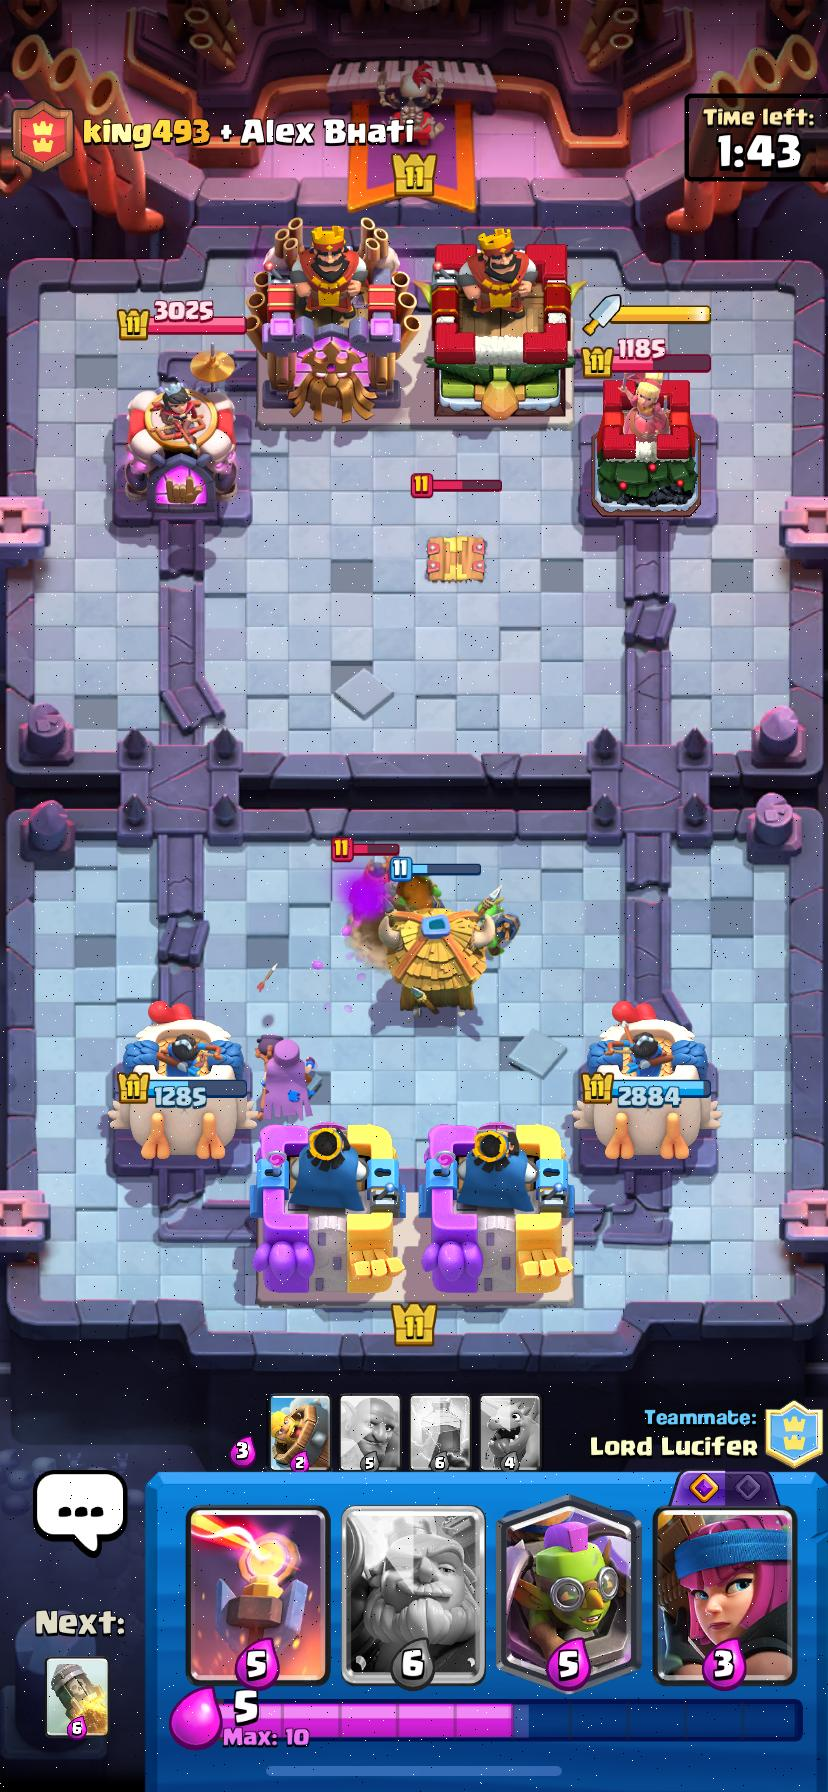EKingTower: (247, 218, 417, 421), (425, 229, 574, 418)
ETesla: (425, 535, 483, 583)
EnemyDagTower: (592, 373, 700, 515)
EnemyPrincessTower: (126, 384, 234, 504)
OGoblinHut: (388, 910, 485, 1011)
OMotherWitch: (262, 1039, 312, 1125)
OSpearGoblin: (473, 898, 519, 957)
OwnKingTower: (422, 1121, 574, 1298), (253, 1123, 403, 1302)
OwnPrincessTower: (578, 1003, 719, 1160), (114, 1003, 257, 1158)
